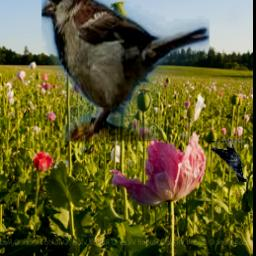Crow: (211, 140, 247, 183)
Sparrow: (42, 0, 210, 141)
